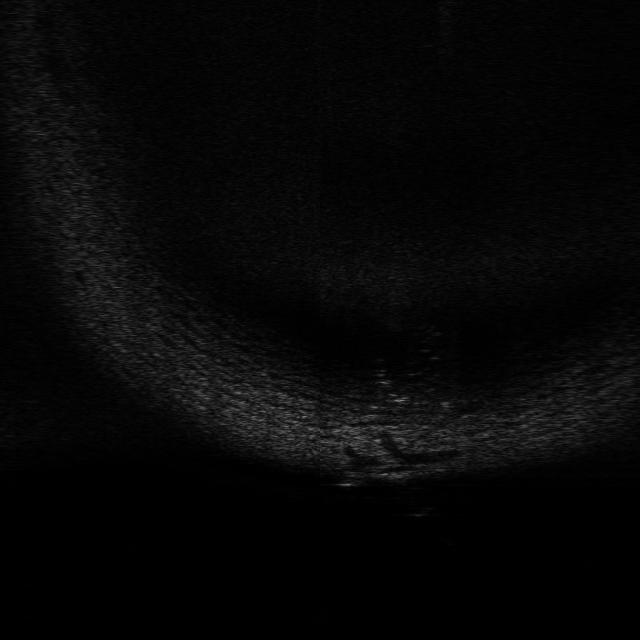plane: (342, 462, 413, 487)
